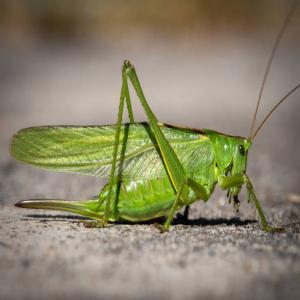locust: (10, 49, 269, 246)
